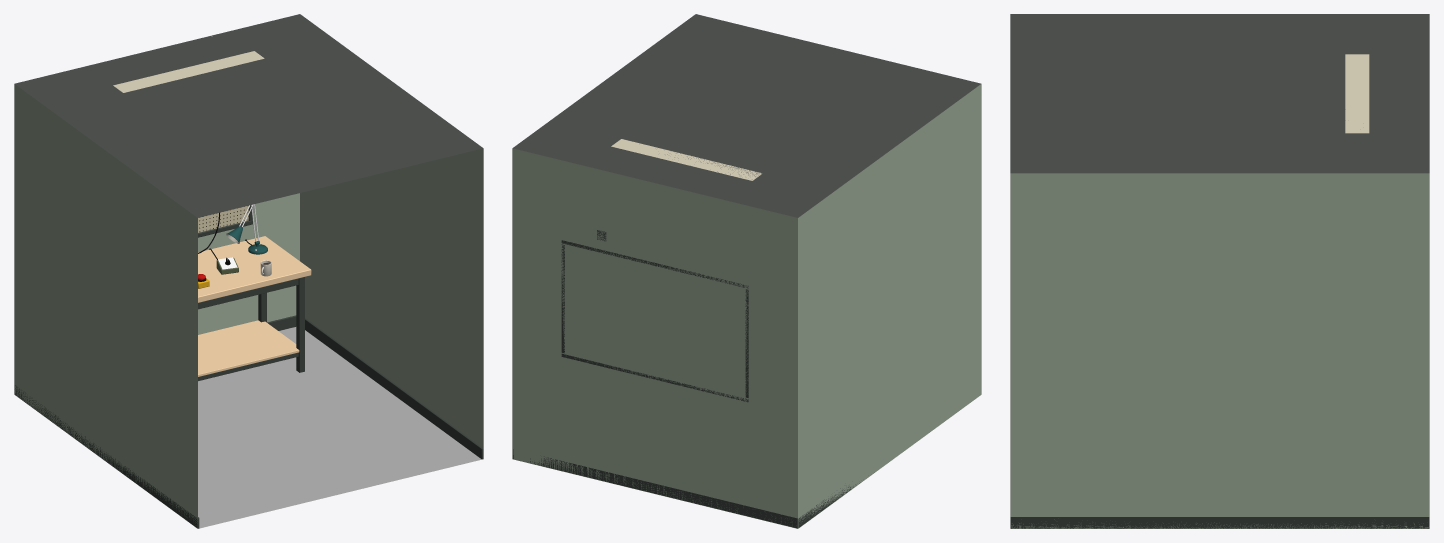
Rendered from WorkbenchScene.fbx.
The picture shows the model from 3 angles, left to right: view 1: azimuth 30°, elevation 25°; view 2: azimuth 150°, elevation 25°; view 3: azimuth 270°, elevation 25°; orthographic projection. The views are drawn at different scales.
Parts seen in each view (by area): view 1: Room_WallSides, Room_Ceiling, Room_Floor, Room_WallBack, Room_Skirting, Bench_Top, Bench_Shelf, Bench_Frame, CeilingLight_Housing, Pegboard_Board; view 2: Room_WallBack, Room_WallSides, Room_Ceiling, Room_Skirting, Pegboard_Frame, CeilingLight_Housing; view 3: Room_WallSides, Room_Ceiling, Room_Skirting, CeilingLight_Housing.
Part boxes in pixels (<box>): Room_WallSides: <box>14,84,483,528</box>; Room_Ceiling: <box>15,14,482,217</box>; Room_Floor: <box>198,327,482,528</box>; Room_WallBack: <box>198,193,299,334</box>; Room_Skirting: <box>14,315,483,528</box>; Bench_Top: <box>198,236,311,302</box>; Bench_Shelf: <box>198,320,299,376</box>; Bench_Frame: <box>198,277,304,380</box>; CeilingLight_Housing: <box>113,51,264,92</box>; Pegboard_Board: <box>198,205,248,232</box>; Room_WallBack: <box>512,148,797,528</box>; Room_WallSides: <box>798,84,981,528</box>; Room_Ceiling: <box>513,14,980,217</box>; Room_Skirting: <box>513,449,860,528</box>; Pegboard_Frame: <box>561,240,748,402</box>; CeilingLight_Housing: <box>611,139,761,180</box>; Room_WallSides: <box>1010,173,1429,528</box>; Room_Ceiling: <box>1010,14,1429,173</box>; Room_Skirting: <box>1010,517,1429,528</box>; CeilingLight_Housing: <box>1345,54,1369,133</box>.
Size of the model in its own units: 2.5 by 2.6 by 2.78.
